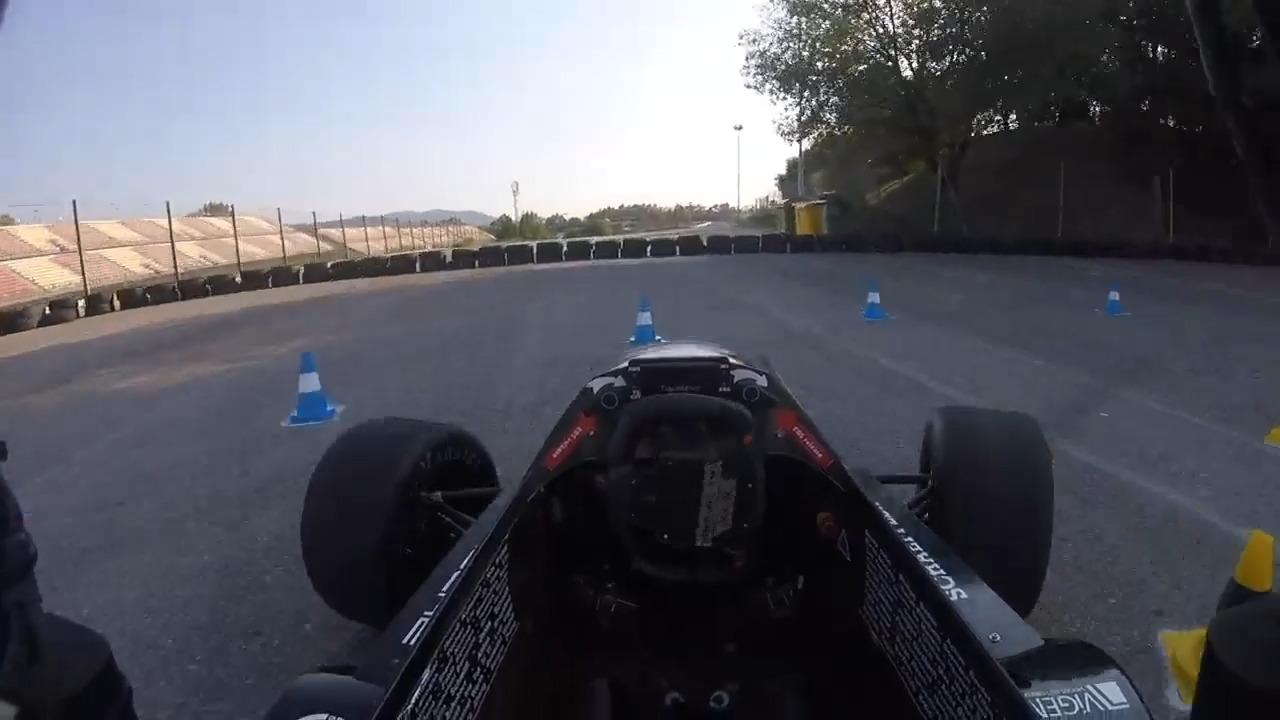blue_cone: (272, 347, 342, 432), (618, 293, 664, 350), (852, 279, 890, 326), (1101, 283, 1130, 320)
yellow_cone: (1161, 528, 1276, 702)
